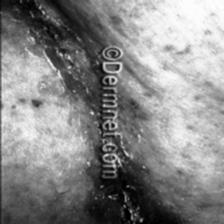Toxin: (0, 0, 76, 63), (96, 190, 168, 224), (66, 68, 98, 136)
